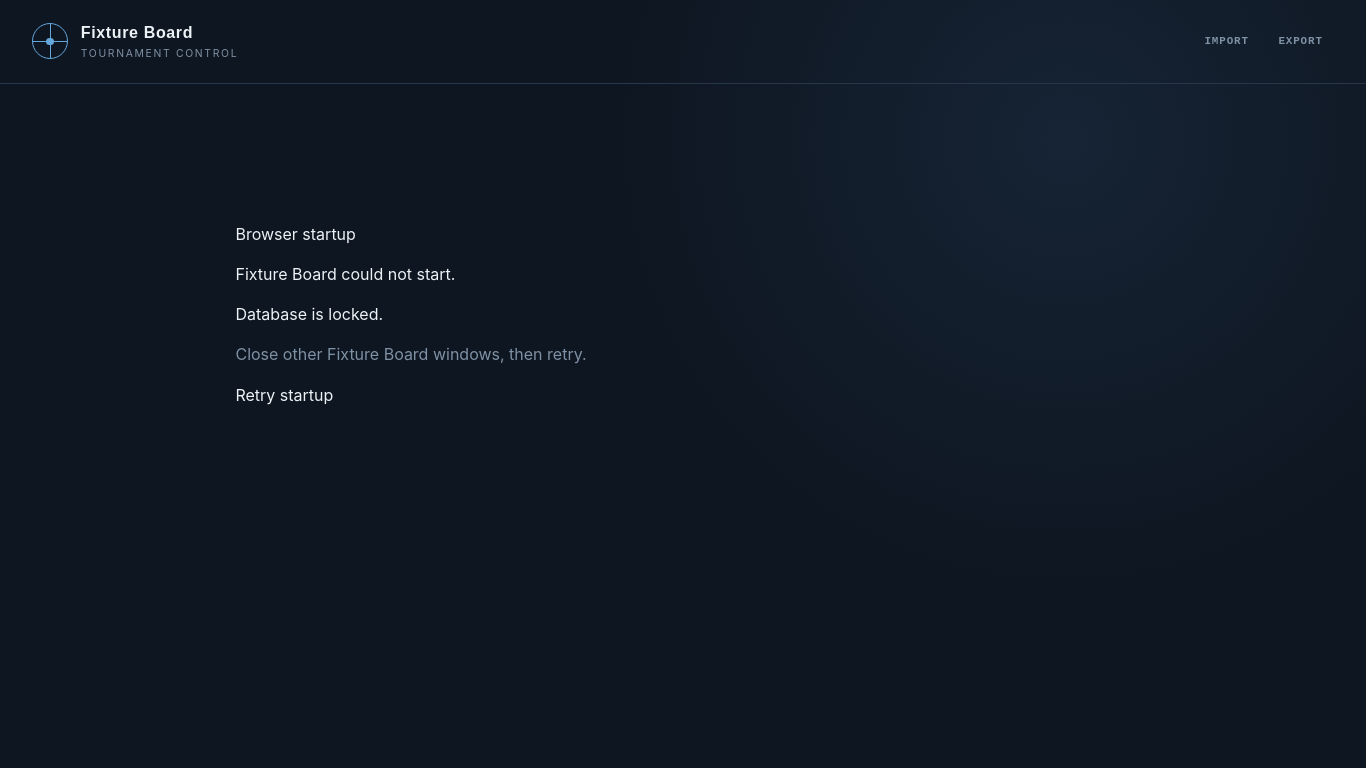
Scenario: application shell › presents a recoverable startup failure and retries hydration
Check: the message reads "Database is locked.", box [235, 304, 383, 324]
Check: the text "Close other Fixture Board windows, then retry." is shown, box [235, 342, 586, 367]
Step 1. Click the button "Retry startup" → click(284, 395), box [235, 383, 333, 407]
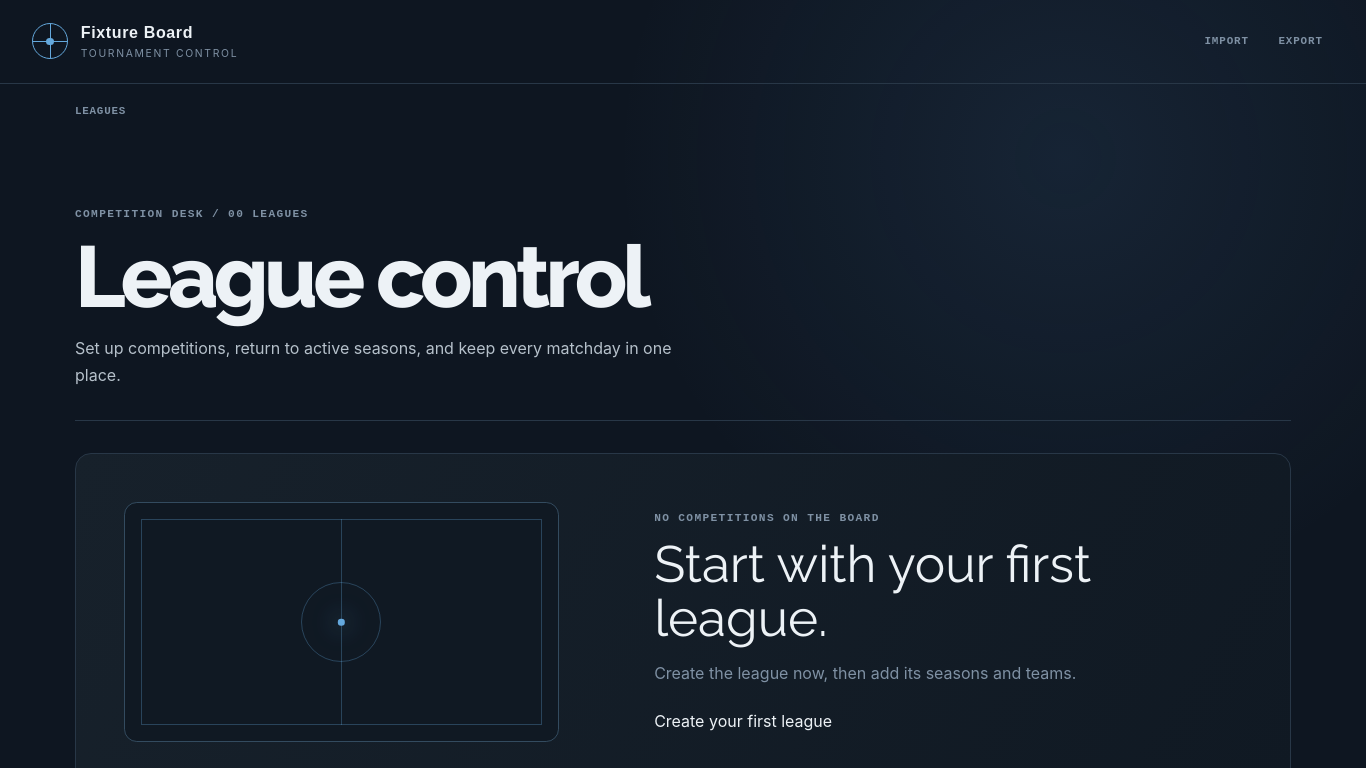
Check: the heading "League control" is shown, box [75, 236, 715, 318]
